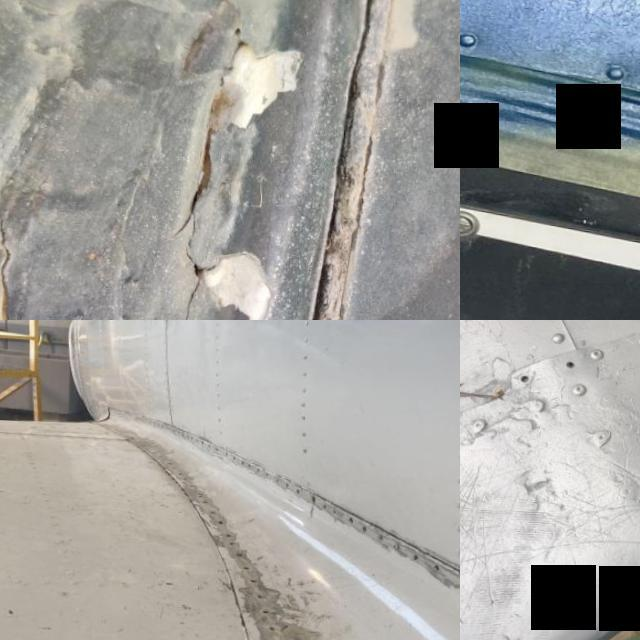Crack: (116, 0, 317, 320), (0, 201, 36, 320)
Missing_Fastener: (436, 557, 442, 566), (416, 547, 423, 554), (380, 528, 387, 534), (324, 497, 330, 504), (245, 561, 253, 566), (272, 620, 278, 626), (265, 604, 271, 610), (298, 483, 304, 489), (220, 516, 227, 521), (252, 574, 260, 578), (257, 463, 263, 468), (248, 459, 254, 464), (260, 590, 266, 594), (240, 548, 246, 552), (232, 537, 238, 541), (364, 521, 370, 525), (287, 478, 293, 482), (242, 456, 248, 460), (228, 530, 233, 534), (213, 506, 218, 510), (206, 496, 210, 501), (267, 468, 272, 472), (278, 474, 282, 478), (234, 452, 238, 456), (227, 447, 230, 452)
